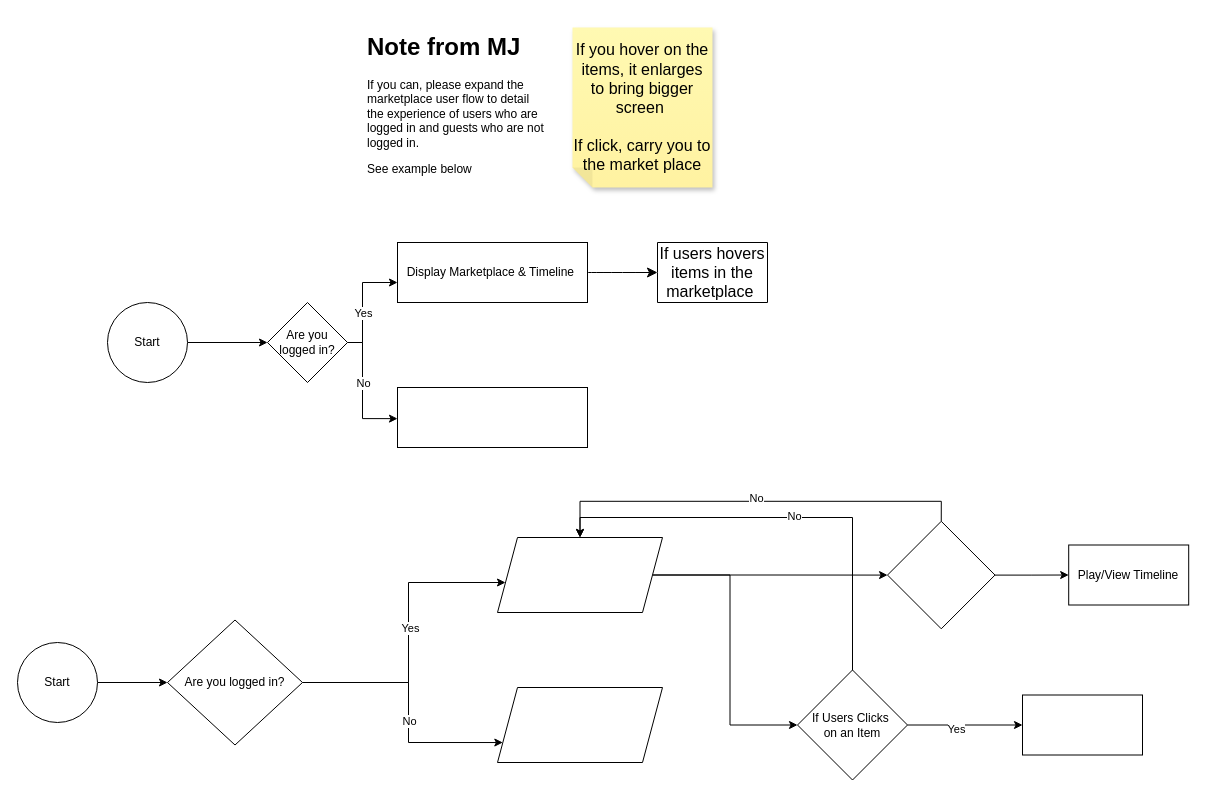
This 1207x797 diagram has some shape labels left out. Here are the shapes that lost their labels. From the top down, the centre of each, then its label:
the point at 492,417: Display Only Marketplace
the point at 579,574: Displays Marketplace & Timeline
the point at 940,574: If Users Clicks on Timeline
the point at 579,724: Displays Only Marketplace
the point at 1082,724: Open Product Page
